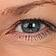eye: (22, 21, 39, 32)
